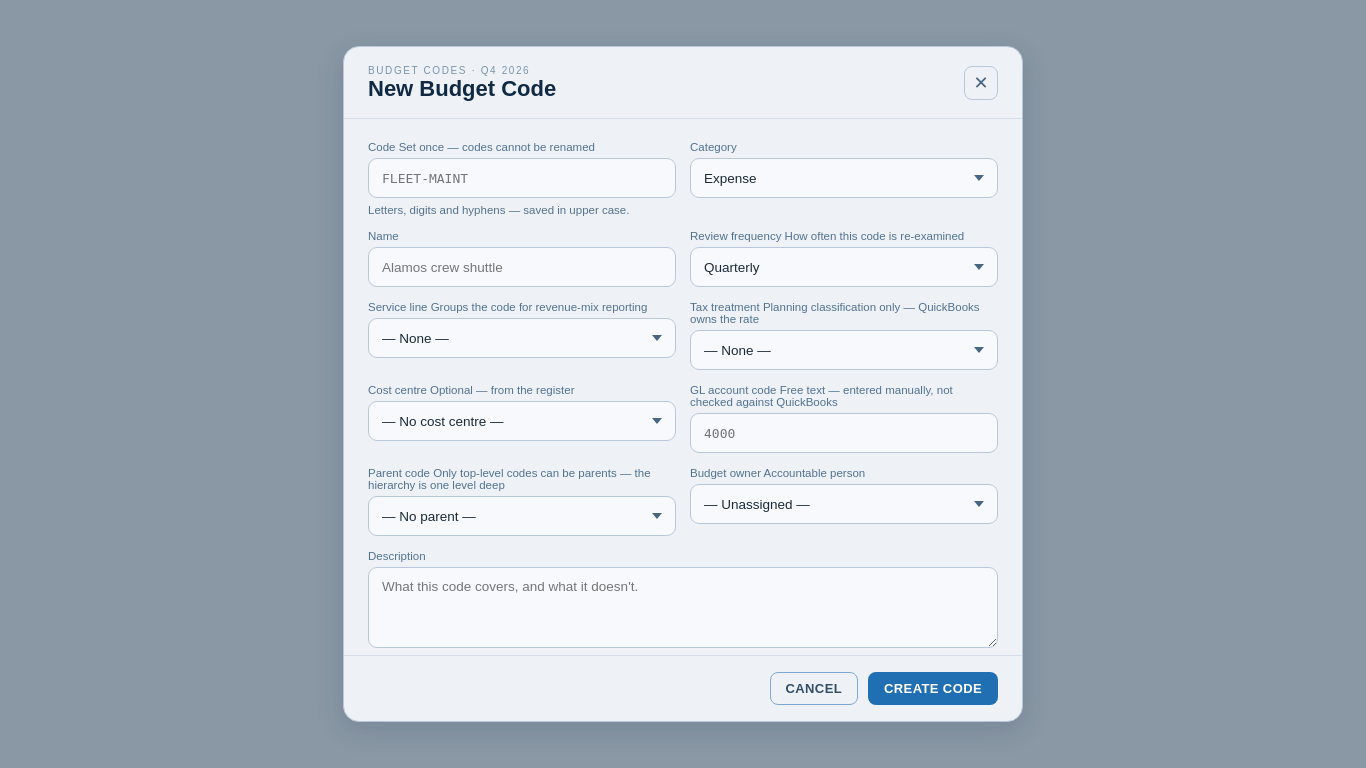
BudgetCodeFormModal — cost-centre picker › shows a refused inline create's message verbatim and keeps the code form's value
Select "+ New cost centre…" in the dropdown below "Cost centre": {"x": 522, "y": 421} [368, 401, 676, 441]
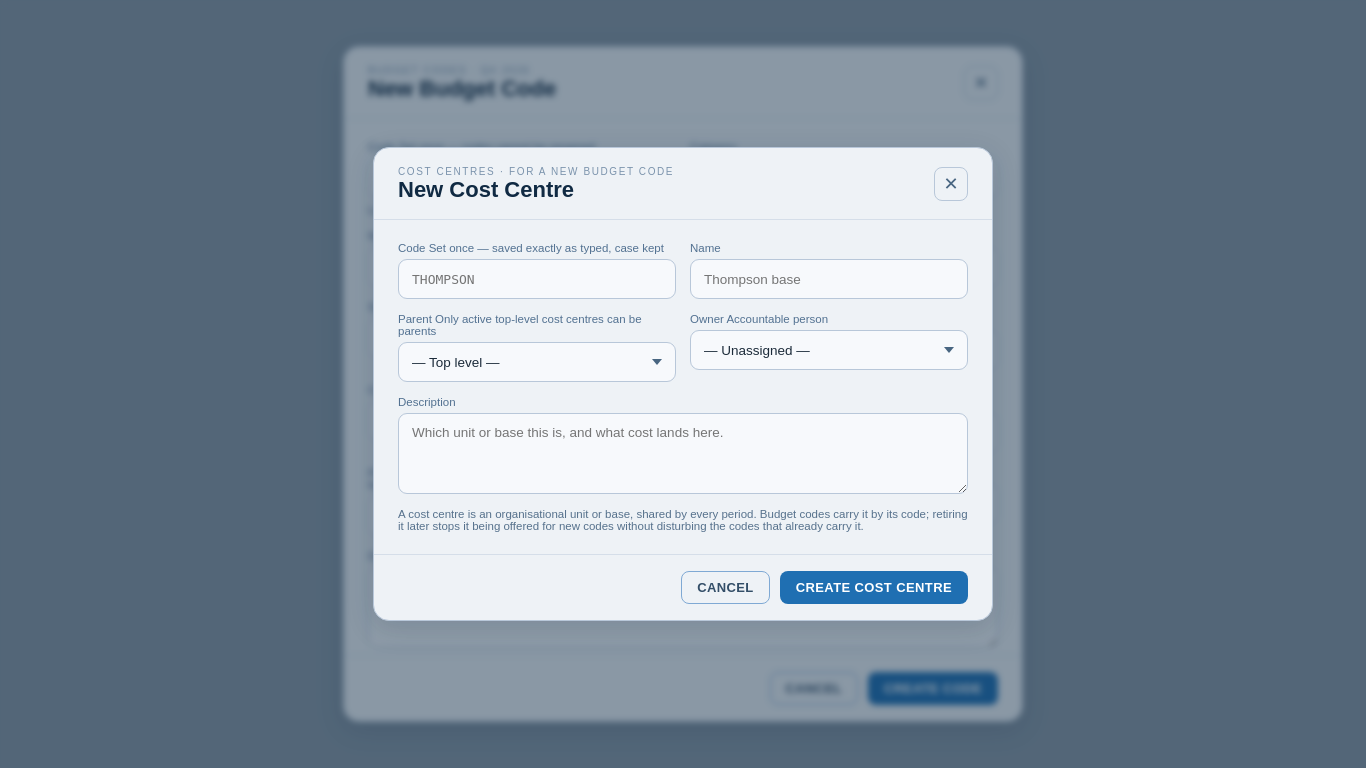
In the field with placeholder "THOMPSON": {"x": 537, "y": 279} [398, 259, 676, 299], type "Thompson"
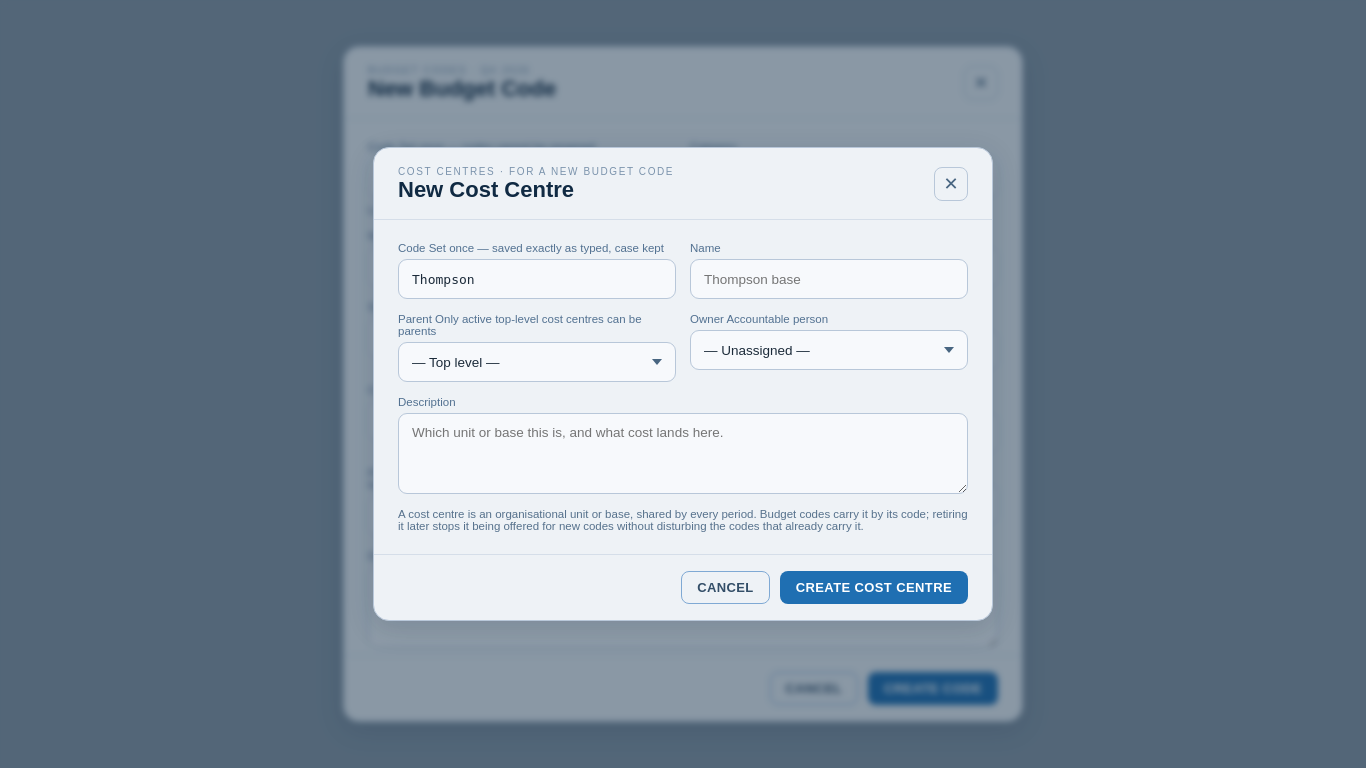
In the field with placeholder "Thompson base": {"x": 829, "y": 279} [690, 259, 968, 299], type "Again"
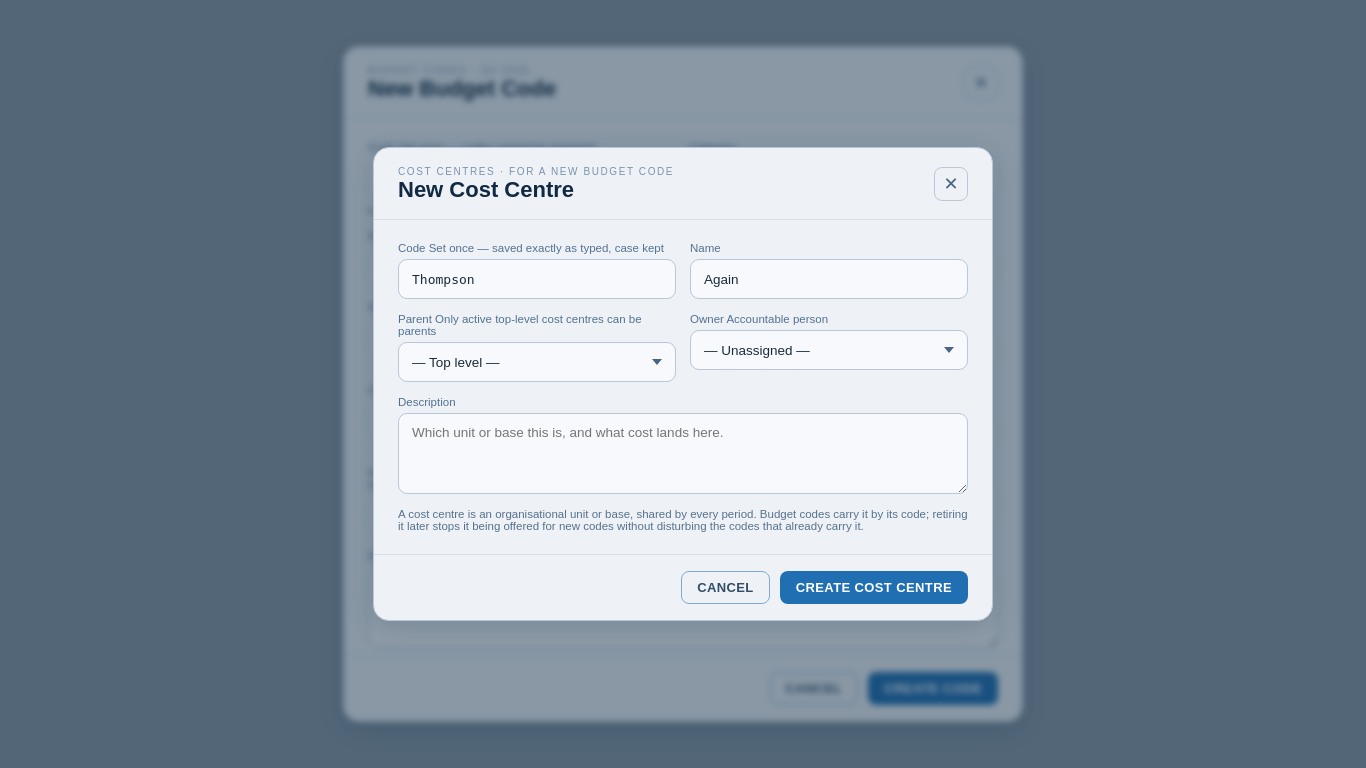
Click the text "CREATE COST CENTRE": {"x": 874, "y": 587} [780, 571, 968, 604]
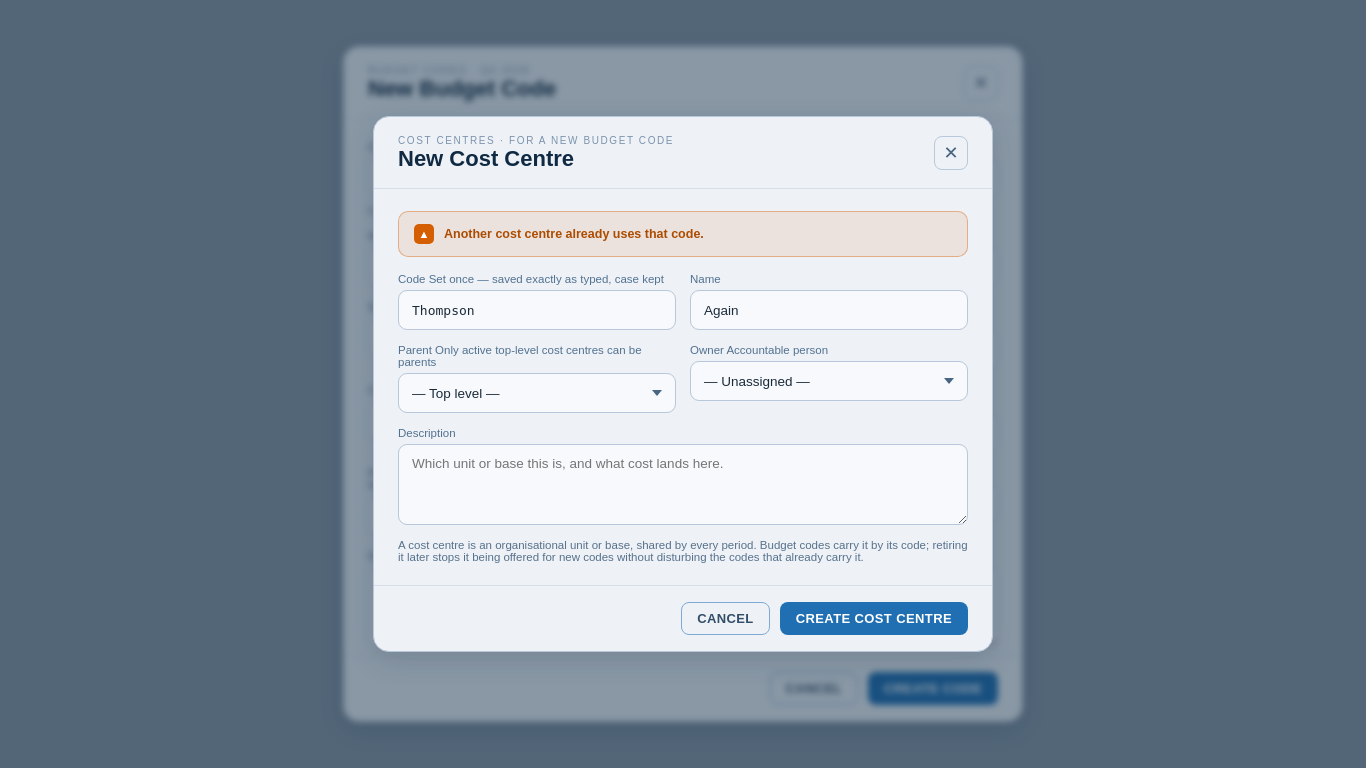
Check: the text "Another cost centre already uses that code." is shown, box [444, 227, 704, 241]
